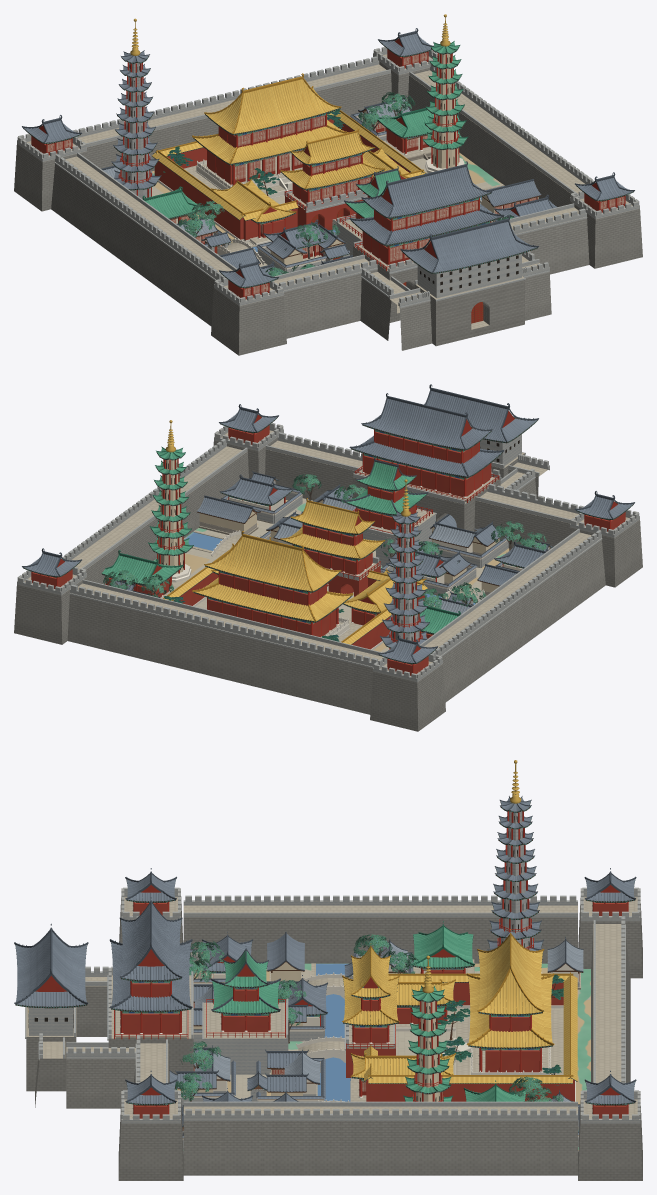
The model's file is City_3.glb.
3 views of the same model, one above another, from view 1: azimuth 30°, elevation 25°; view 2: azimuth 150°, elevation 25°; view 3: azimuth 270°, elevation 25° (orthographic). The views are drawn at different scales.
Visible parts, largest first — view 1: City_3; view 2: City_3; view 3: City_3.
Part boxes in pixels (x1,y1,x2,y2): City_3: [14, 14, 642, 355]; City_3: [14, 384, 642, 731]; City_3: [14, 760, 642, 1180].
Bounding box in the file's own units: 109 × 50.65 × 126.
Materials: 7 (6 with a texture image).
